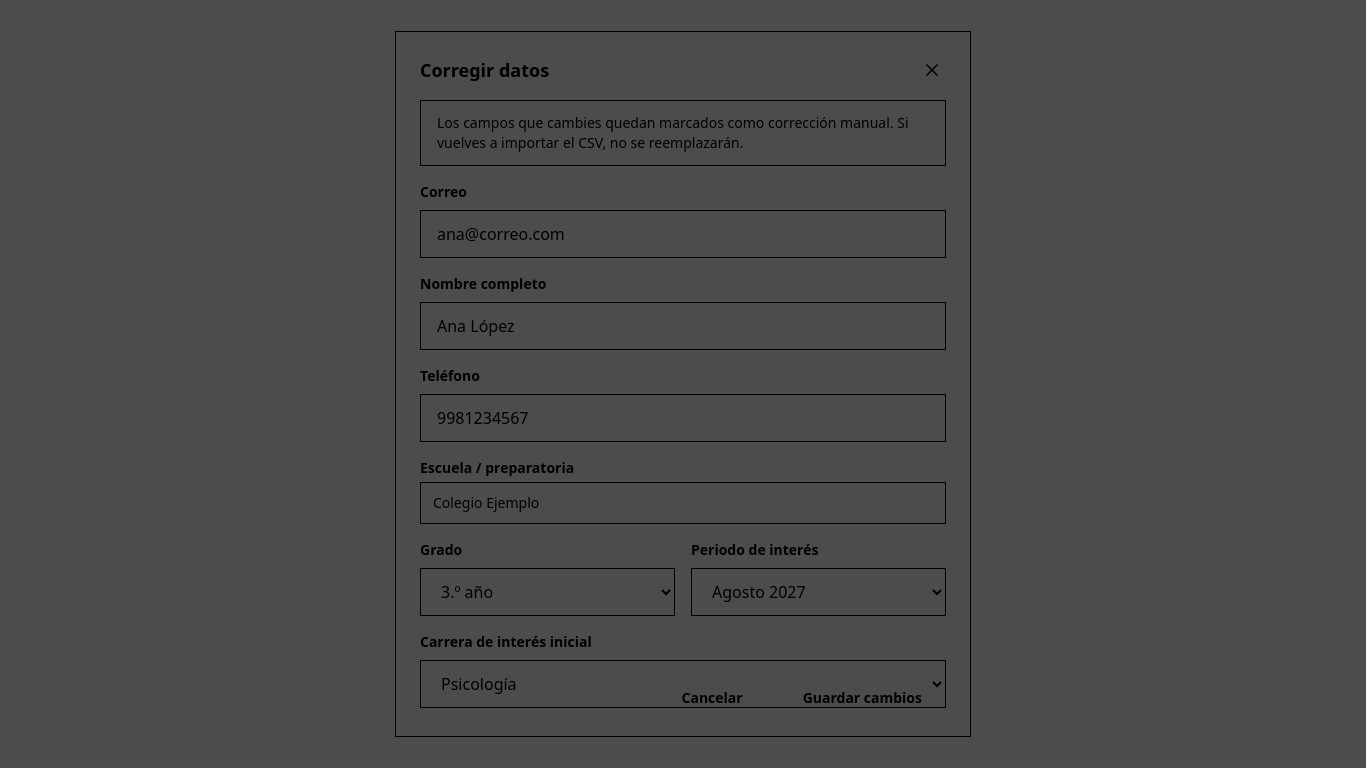
clearing the grade is sent as empty and server errors are shown in plain language
The width and height of the screenshot is (1366, 768).
Select "Sin dato" in the dropdown labelled "Grado" at coordinates (548, 592), box x1=420 y1=568 x2=675 y2=616
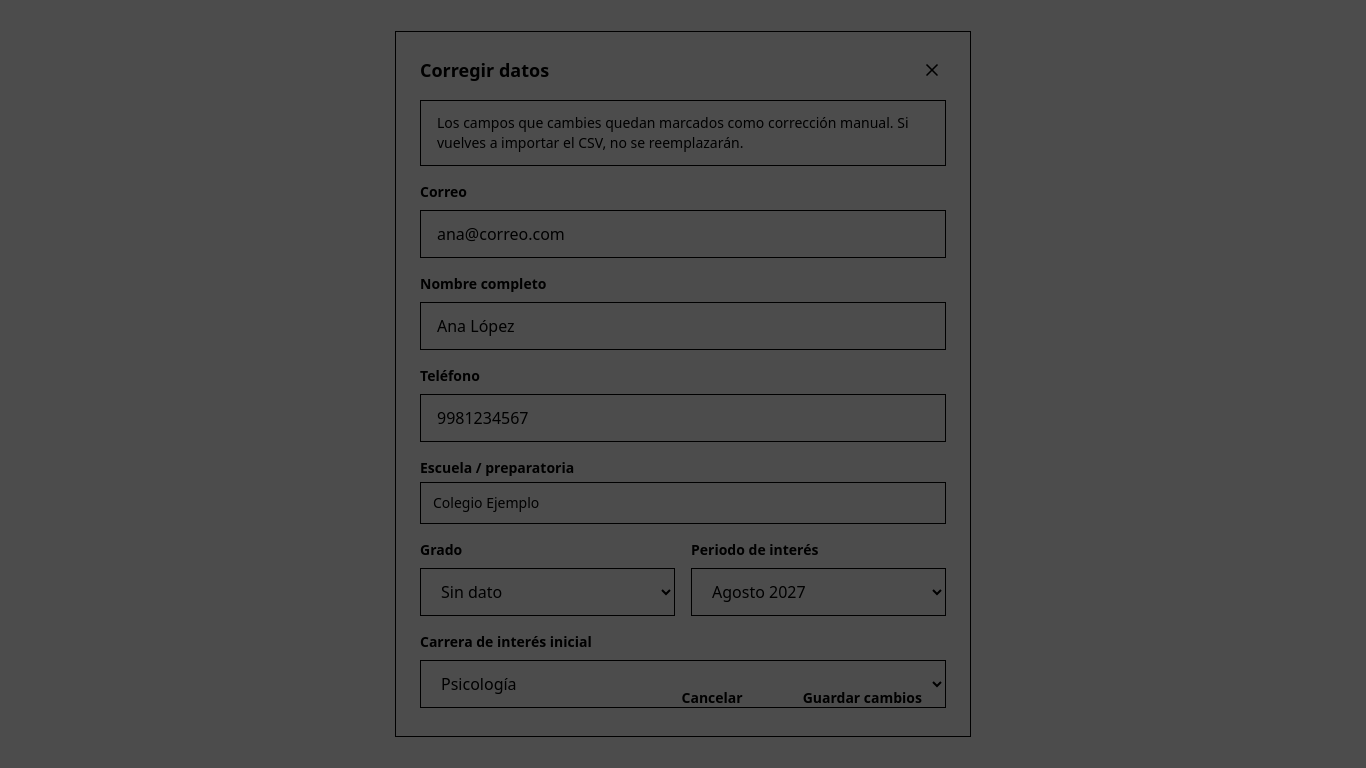
Click the button "Guardar cambios" at coordinates (862, 699), box x1=779 y1=675 x2=946 y2=723
(page scrolled)
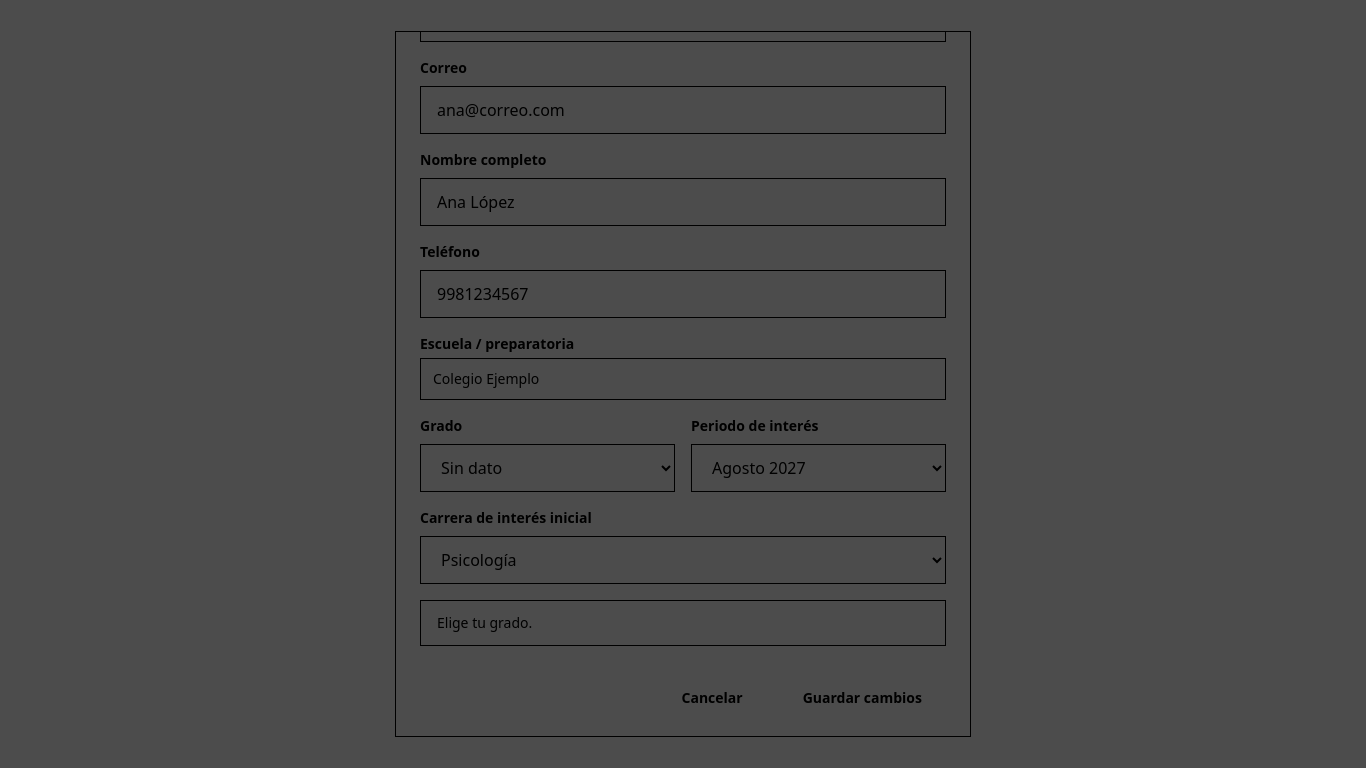
Expected: the message "Elige tu grado." is shown, x1=420 y1=600 x2=946 y2=646
